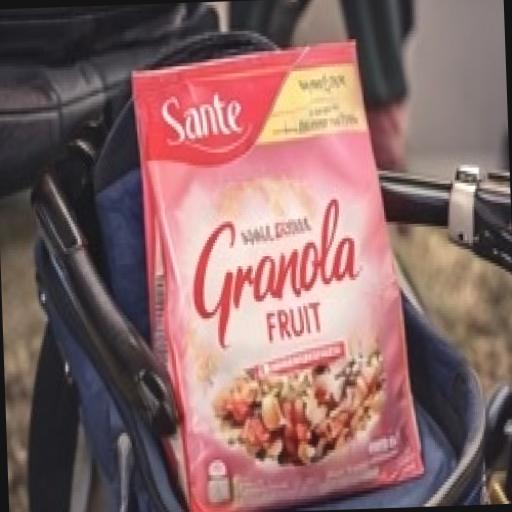granola: (112, 26, 458, 502)
